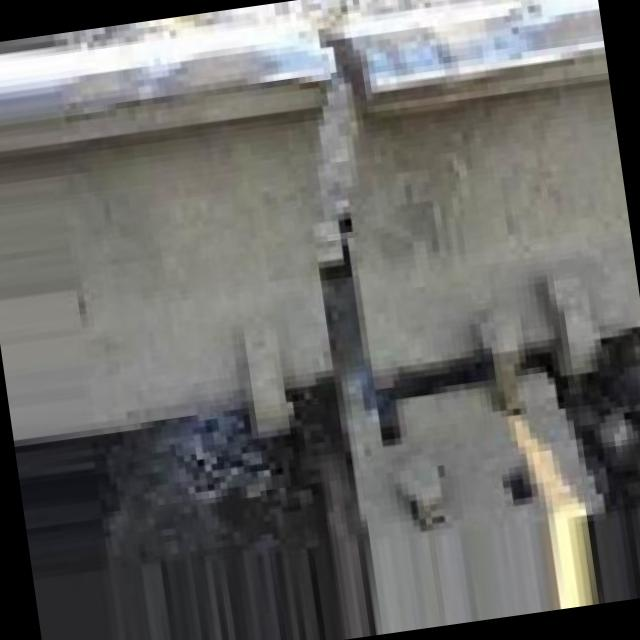defective: (97, 0, 614, 550)
